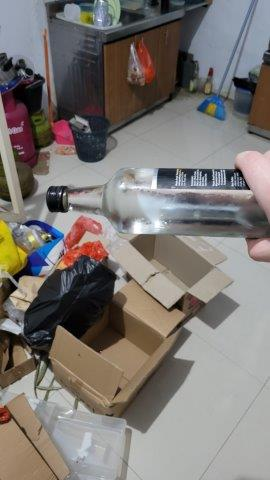botolkaca: (42, 170, 270, 239)
